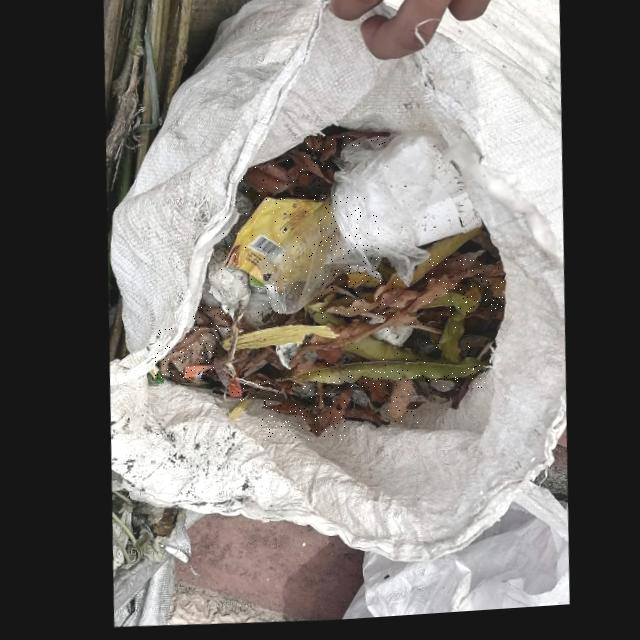biowaste: (287, 281, 453, 370), (284, 364, 485, 388), (259, 393, 345, 440), (418, 298, 473, 367), (317, 279, 400, 320), (156, 329, 217, 379), (382, 382, 427, 426), (232, 377, 313, 401), (445, 281, 504, 312), (426, 266, 501, 289), (286, 153, 329, 188), (241, 166, 289, 195), (430, 257, 483, 277), (194, 307, 229, 332), (305, 137, 333, 168), (461, 287, 480, 318), (330, 136, 387, 146)
wrapper: (257, 195, 379, 317), (221, 201, 319, 286)
